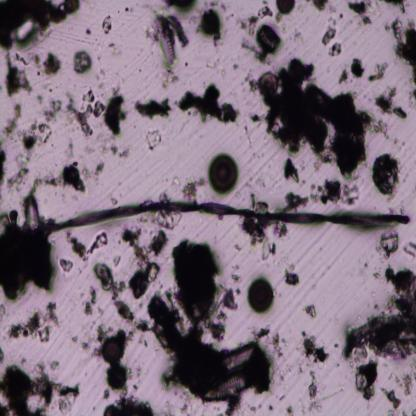Background material: (270, 56, 374, 178), (335, 261, 416, 365), (150, 293, 220, 401), (0, 191, 58, 304), (170, 235, 230, 342), (0, 359, 81, 415), (0, 0, 81, 51), (119, 225, 167, 303), (236, 8, 282, 66), (175, 86, 241, 124), (5, 302, 60, 343), (386, 17, 416, 87), (63, 90, 106, 138), (32, 159, 86, 195), (245, 346, 275, 397), (372, 154, 404, 198), (114, 350, 148, 391), (310, 178, 358, 206), (4, 53, 33, 97), (298, 330, 329, 370), (373, 84, 408, 119), (92, 264, 126, 300), (196, 5, 224, 47), (104, 90, 128, 138), (67, 233, 108, 261), (100, 394, 154, 415), (355, 360, 379, 403), (133, 97, 173, 121), (70, 330, 100, 360), (35, 92, 62, 122), (17, 129, 38, 166), (242, 217, 270, 244), (154, 62, 178, 92), (348, 1, 374, 28), (3, 103, 21, 140), (375, 233, 399, 260), (34, 52, 62, 75), (156, 210, 185, 230), (6, 166, 28, 192), (278, 191, 308, 210), (164, 0, 197, 16), (184, 177, 207, 199), (114, 300, 136, 323), (30, 122, 52, 145), (380, 386, 402, 408), (72, 50, 92, 74), (299, 400, 329, 416), (283, 157, 299, 186), (222, 284, 239, 311), (261, 237, 278, 262), (370, 121, 392, 140), (368, 63, 388, 83), (83, 288, 97, 316), (399, 372, 415, 396), (284, 263, 300, 286), (306, 370, 319, 398), (320, 24, 336, 46), (146, 129, 162, 150), (383, 0, 406, 14), (271, 330, 282, 359), (100, 12, 113, 36), (351, 57, 364, 80), (0, 138, 6, 186), (134, 319, 153, 334), (57, 256, 72, 274), (275, 220, 290, 238), (252, 328, 272, 340), (118, 329, 134, 344), (402, 241, 416, 258), (94, 160, 106, 178), (303, 303, 317, 318), (249, 113, 265, 126), (311, 0, 328, 12), (261, 402, 278, 414), (118, 146, 130, 162), (98, 324, 108, 343), (329, 42, 342, 56), (93, 74, 108, 85), (338, 70, 349, 84), (100, 386, 110, 401), (248, 78, 258, 92), (112, 254, 122, 268), (285, 405, 294, 415), (0, 345, 5, 363), (171, 177, 180, 187), (86, 27, 92, 36), (388, 408, 394, 416)
Cotton: (51, 201, 411, 231)
Diatom: (201, 339, 260, 401), (160, 13, 188, 64), (209, 154, 238, 194), (247, 278, 273, 312), (106, 363, 128, 390), (102, 336, 122, 362), (258, 72, 278, 96), (276, 0, 294, 16)
